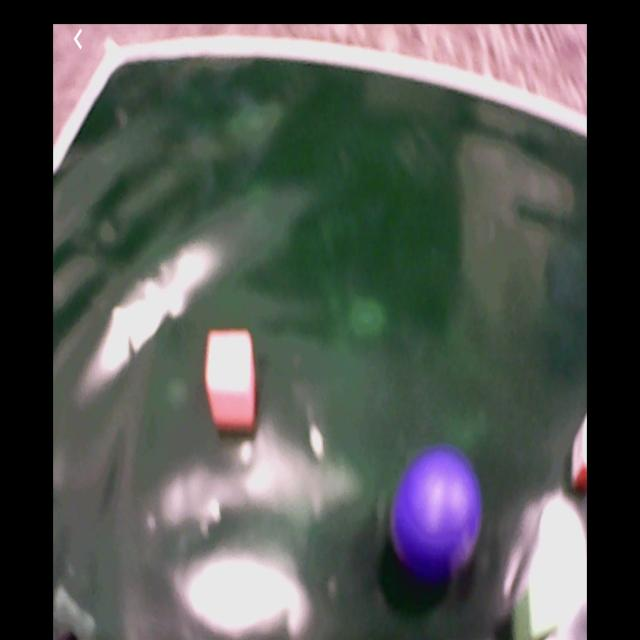ball: (393, 447, 479, 577)
